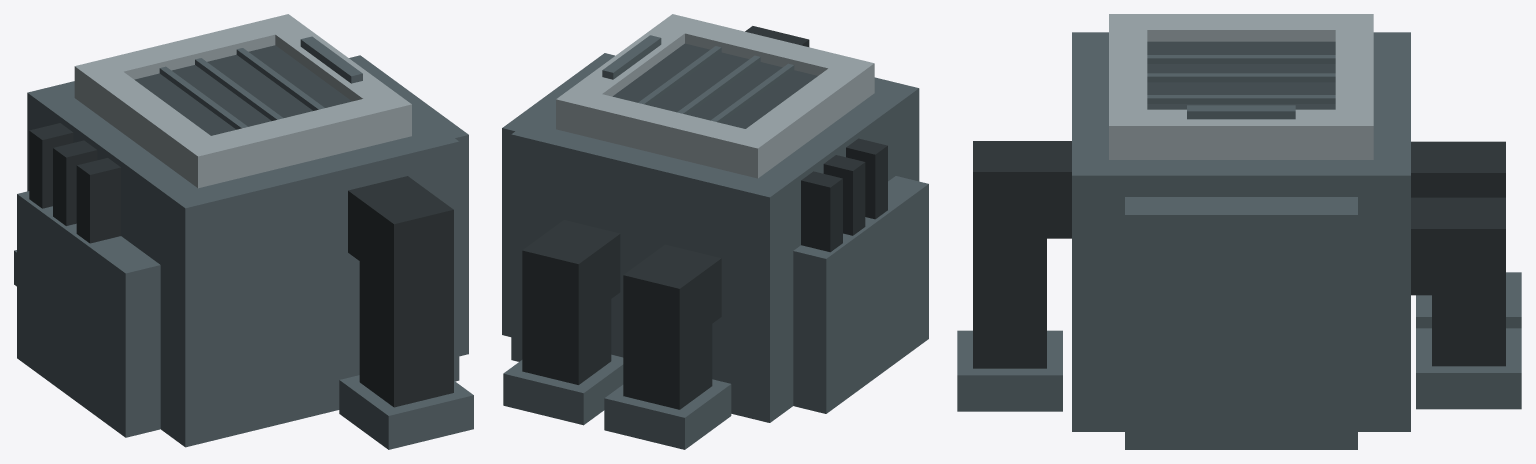
Rendered from Machine 01.FBX.
The picture shows the model from 3 angles, left to right: view 1: azimuth 30°, elevation 25°; view 2: azimuth 150°, elevation 25°; view 3: azimuth 270°, elevation 25°; orthographic projection. The views are drawn at different scales.
Visible parts, largest first — view 1: Machine 01; view 2: Machine 01; view 3: Machine 01.
Part boxes in pixels (bbox=[...]): Machine 01: bbox=[14, 14, 473, 449]; Machine 01: bbox=[502, 14, 928, 449]; Machine 01: bbox=[957, 14, 1521, 449].
Size of the model in its own units: 153 by 119 by 203.
